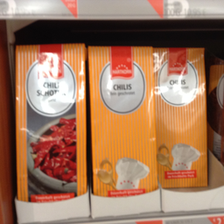spices: (14, 43, 87, 203), (87, 43, 156, 197), (154, 47, 208, 189)
